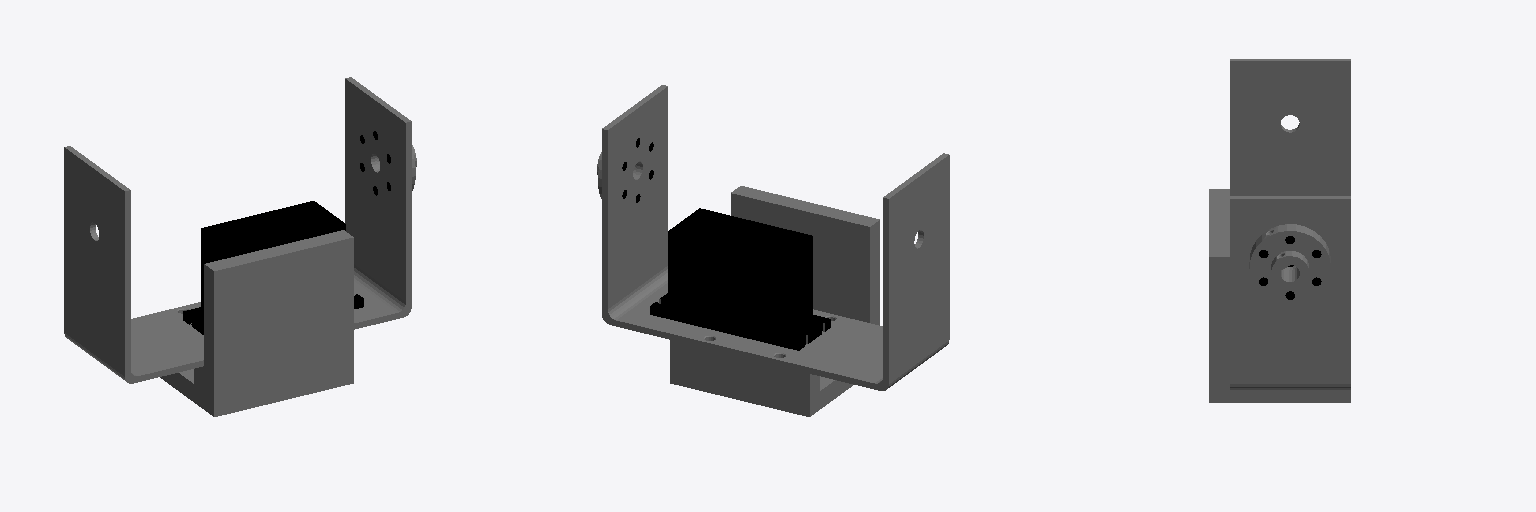
The model's file is pitch_light.obj.
3 renders of one model, left to right at view 1: azimuth 30°, elevation 25°; view 2: azimuth 150°, elevation 25°; view 3: azimuth 270°, elevation 25°, orthographic.
Visible parts, largest first — view 1: Object.1; view 2: Object.1; view 3: Object.1.
Boxes of the visible parts, box(x1,y1,x2,y2) form: Object.1: box(64, 77, 416, 416); Object.1: box(597, 85, 949, 416); Object.1: box(1209, 59, 1350, 402).
Size of the model in its own units: 112 by 82.96 by 43.95.